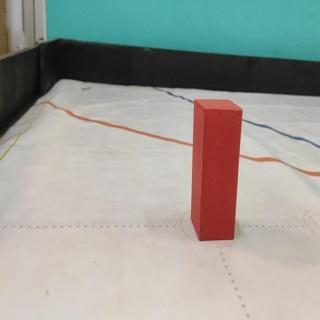redbox: (190, 97, 244, 241)
